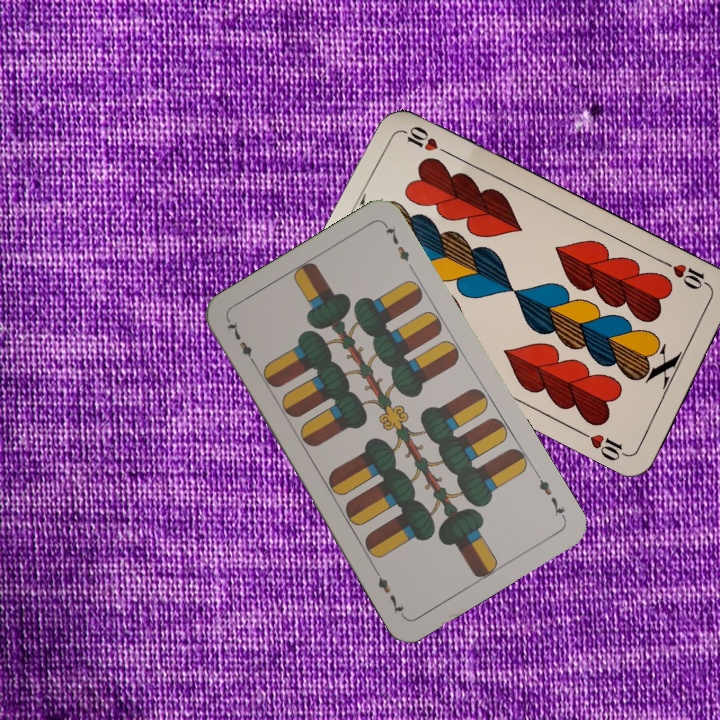E7: (223, 316, 260, 370), (531, 468, 568, 522)
H10: (659, 257, 714, 293)
